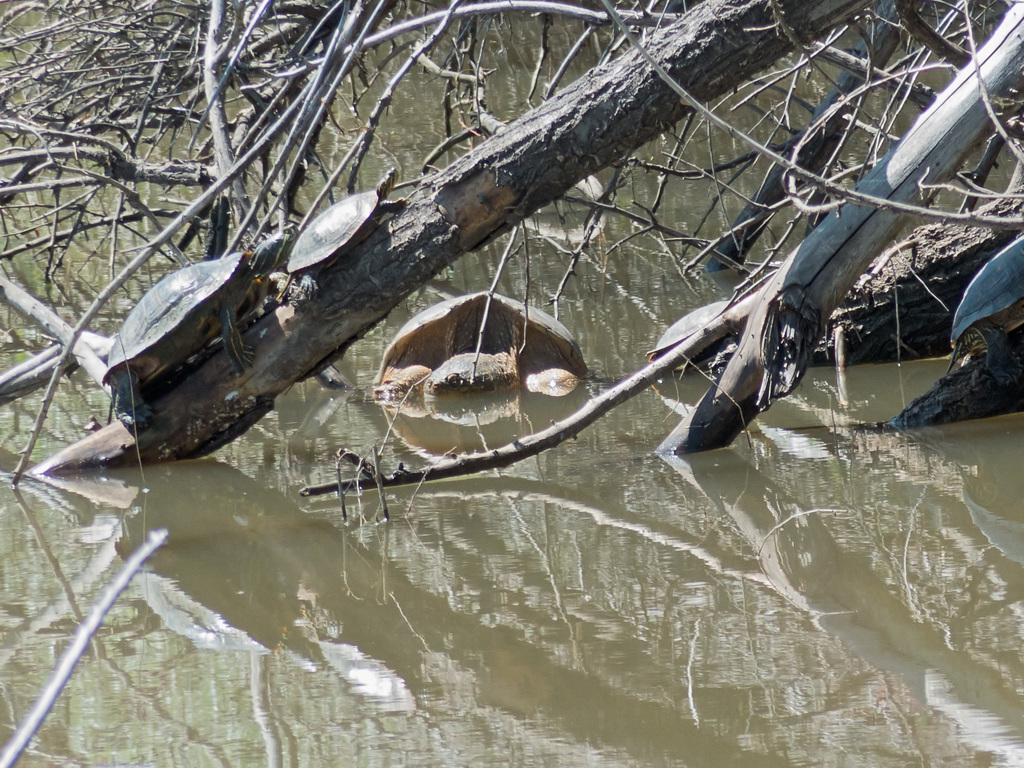Sea turtles: (98, 234, 296, 431), (368, 291, 585, 396), (282, 158, 413, 302), (941, 229, 1023, 387), (649, 300, 734, 362)
